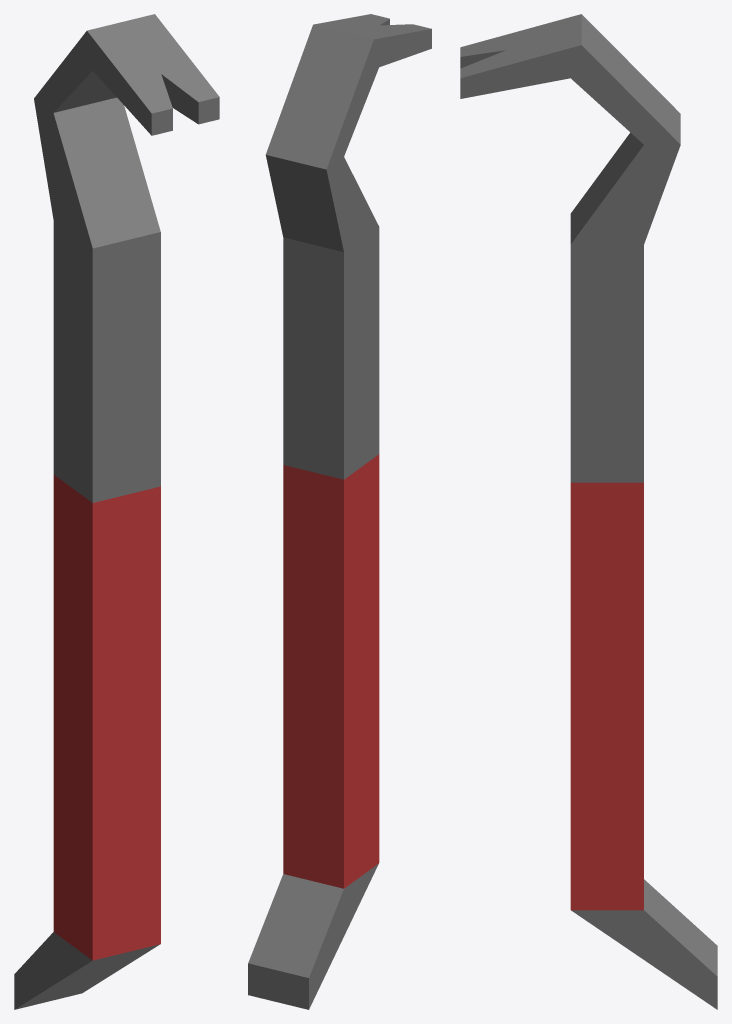
Rendered from Crowbar.fbx.
3 views of the same model, side by side, from view 1: azimuth 30°, elevation 25°; view 2: azimuth 150°, elevation 25°; view 3: azimuth 270°, elevation 25° (orthographic). The views are drawn at different scales.
Visible parts, largest first — view 1: Crowbar; view 2: Crowbar; view 3: Crowbar.
Part boxes in pixels (bbox=[...]): Crowbar: bbox=[14, 14, 219, 1009]; Crowbar: bbox=[248, 14, 431, 1009]; Crowbar: bbox=[460, 14, 717, 1009].
Size of the model in its own units: 0.07 by 1.01 by 0.245.
